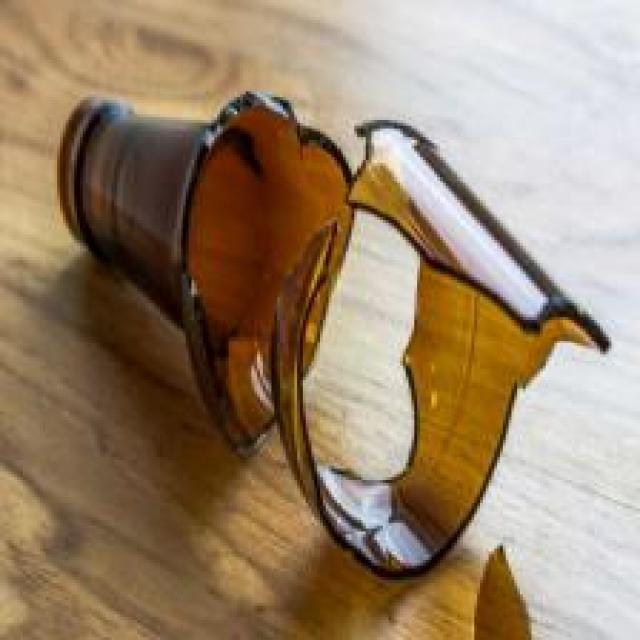Dry Waste: (55, 88, 612, 575)
